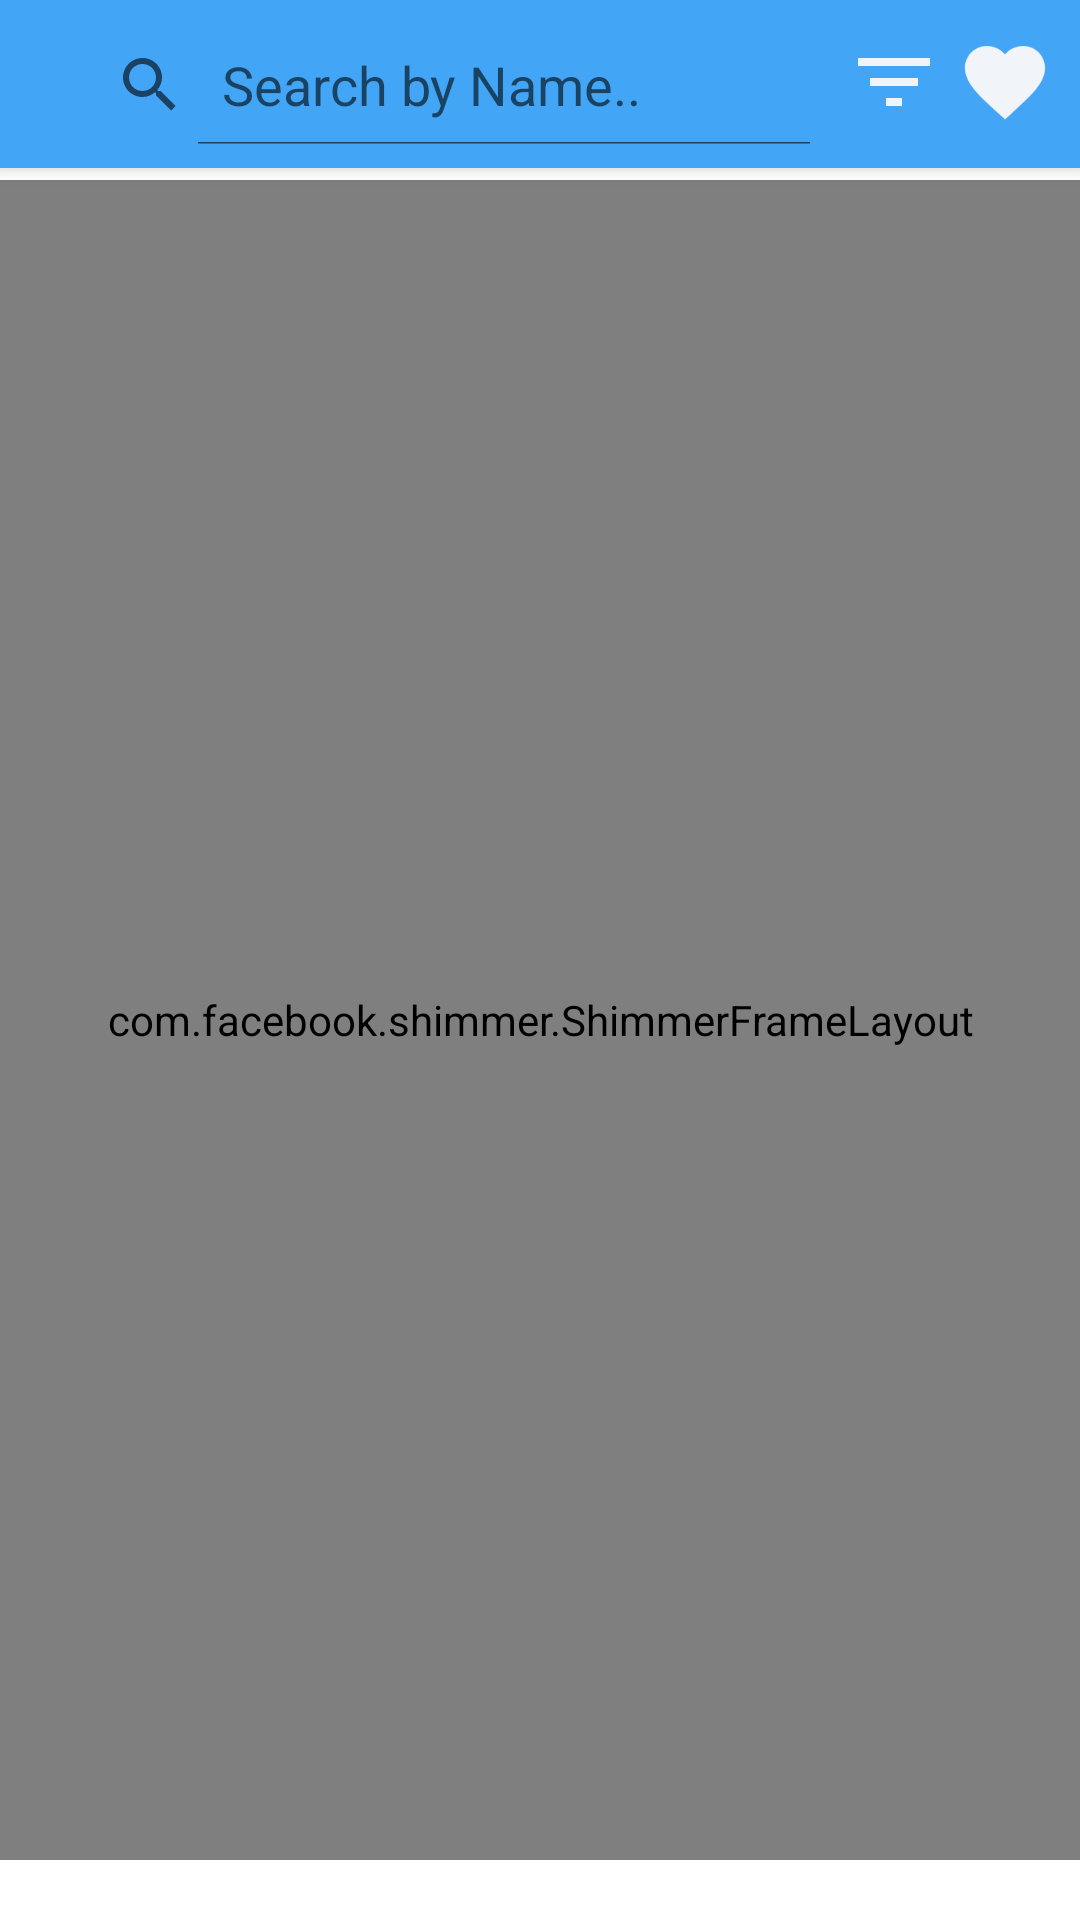

Locate icon controls on the screen. Image size 1080x1920, boxes as [x1=x1, y1=y1, x2=x2, y2=y2].
favorite: [x1=964, y1=46, x2=1046, y2=119]
filter: [x1=858, y1=58, x2=930, y2=106]
